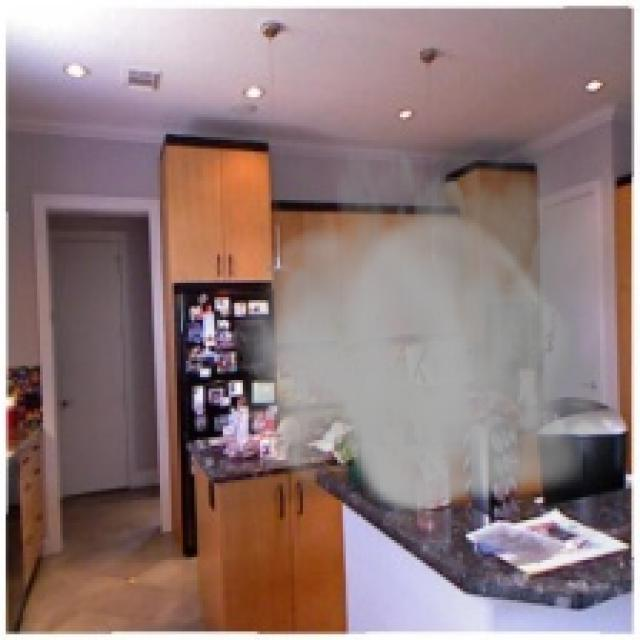Smoke: (234, 103, 637, 520)
